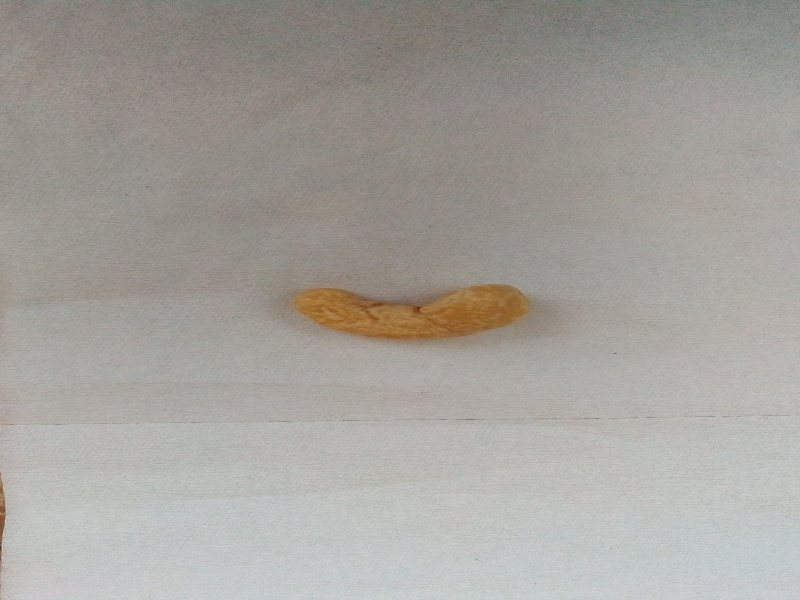cashew: (263, 247, 558, 360)
